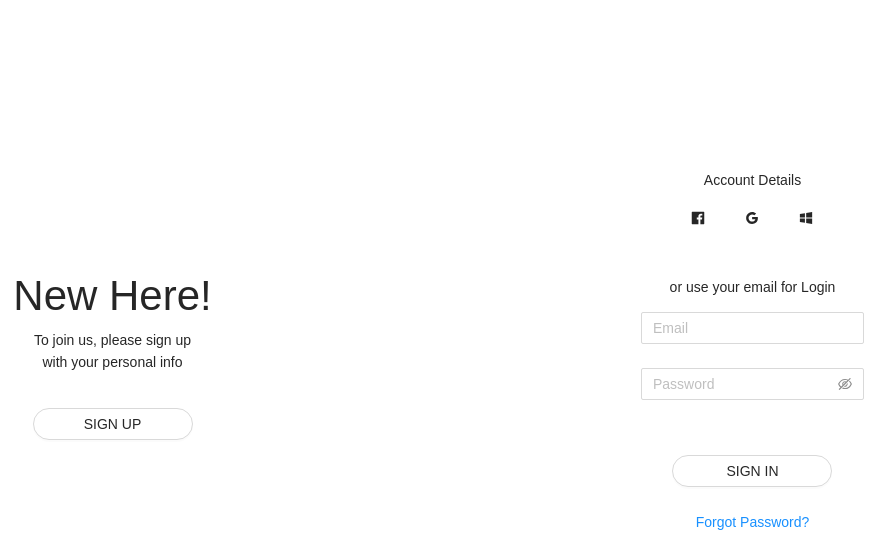
Test: <Login /> › User should get error with invalid credentials
This screenshot has width=881, height=547.
Expected: the button with test id "log-in" is shown, 672,455 -> 832,487
Type "john@doe.test" into the field with test id "email". click: [752, 328]
box: 641,312 -> 864,344
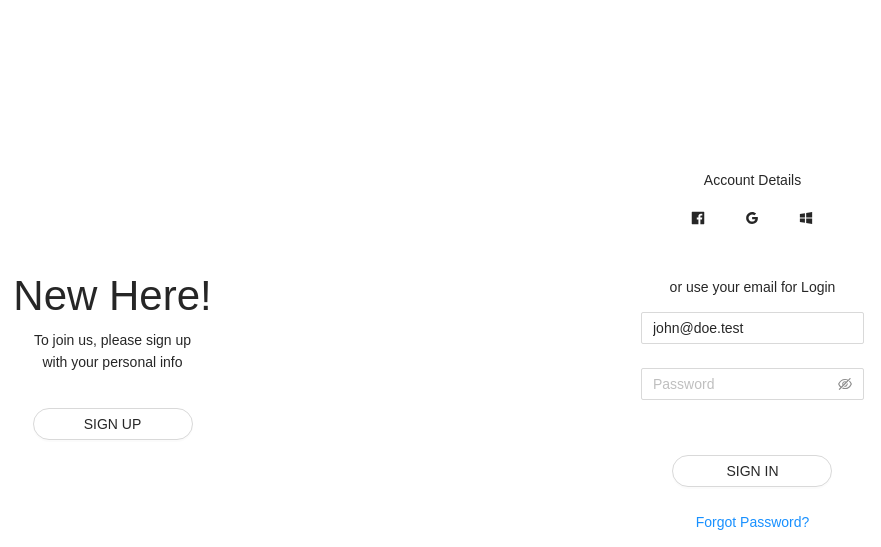
Type "Test@123" into the password field with test id "password". click: [744, 384]
box: 653,373 -> 834,395
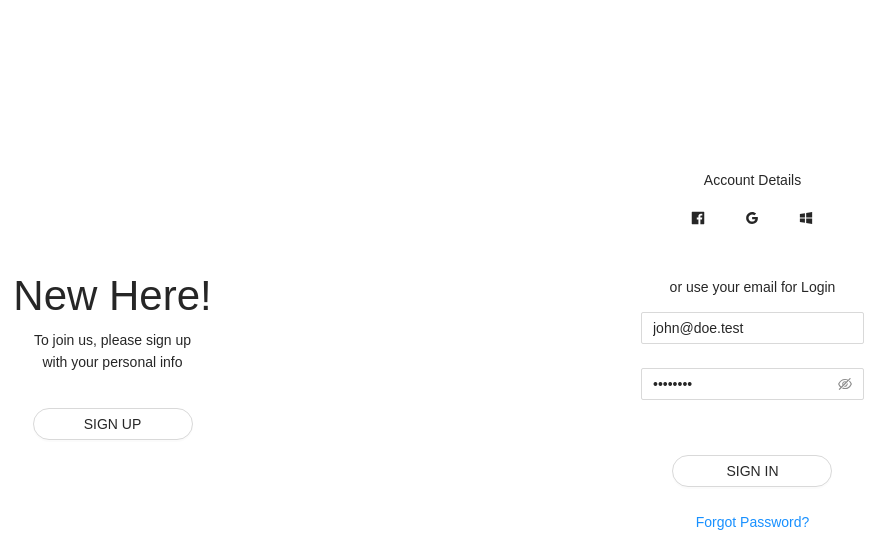
Click the button with test id "log-in". click: [752, 471]
box: 672,455 -> 832,487
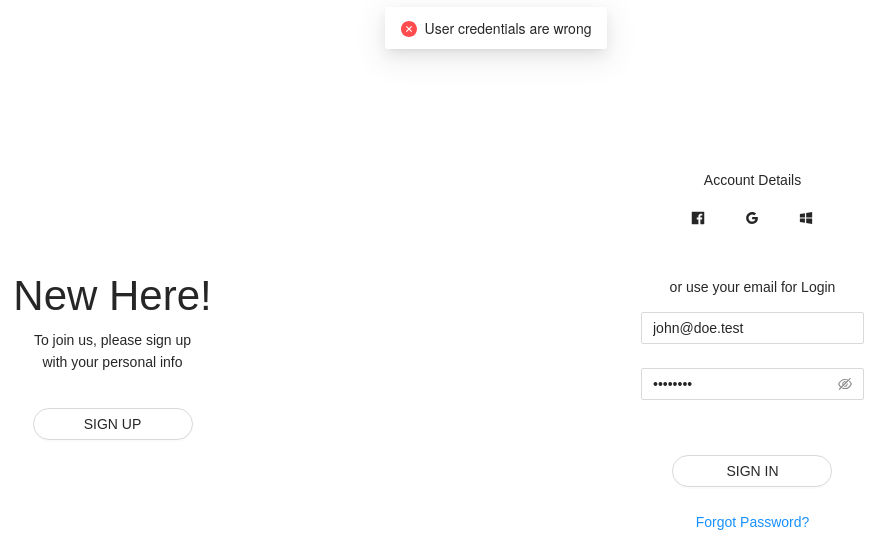
Now the text "User credentials are wrong" is shown, box 424,18 -> 591,38
